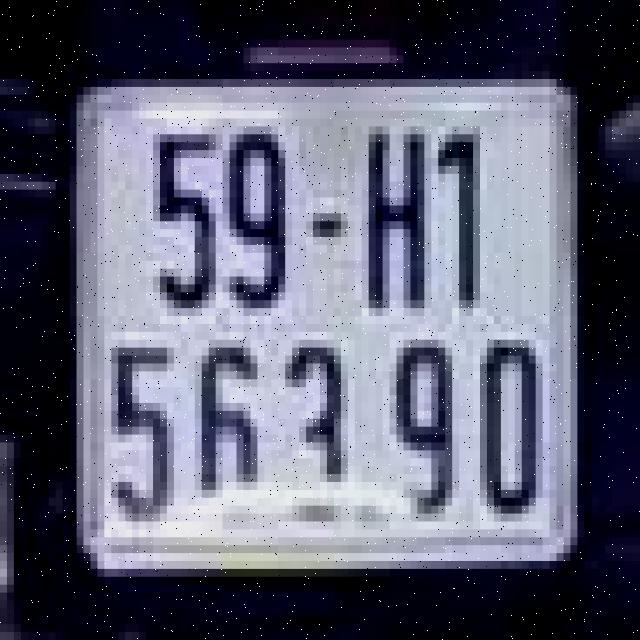0: (466, 324, 557, 521)
1: (438, 119, 494, 316)
3: (282, 332, 351, 529)
5: (143, 122, 219, 320), (101, 328, 177, 525)
6: (191, 340, 268, 521)
9: (219, 123, 296, 312), (383, 332, 452, 529)
H: (362, 119, 431, 316)
